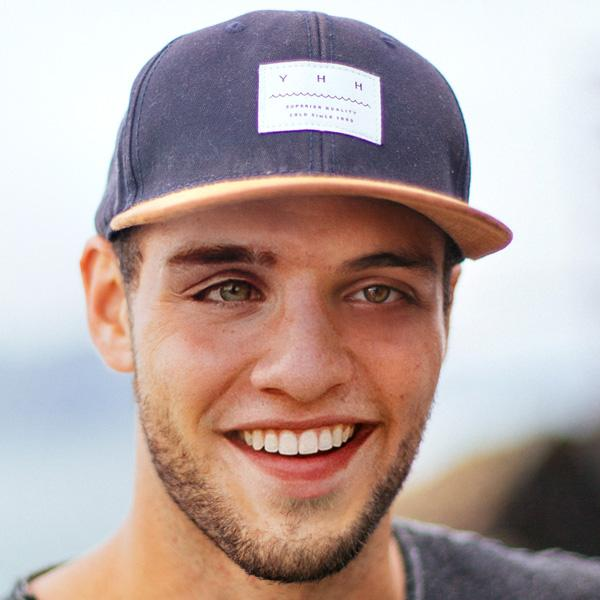Eyes: (172, 260, 275, 324), (326, 268, 423, 326)
